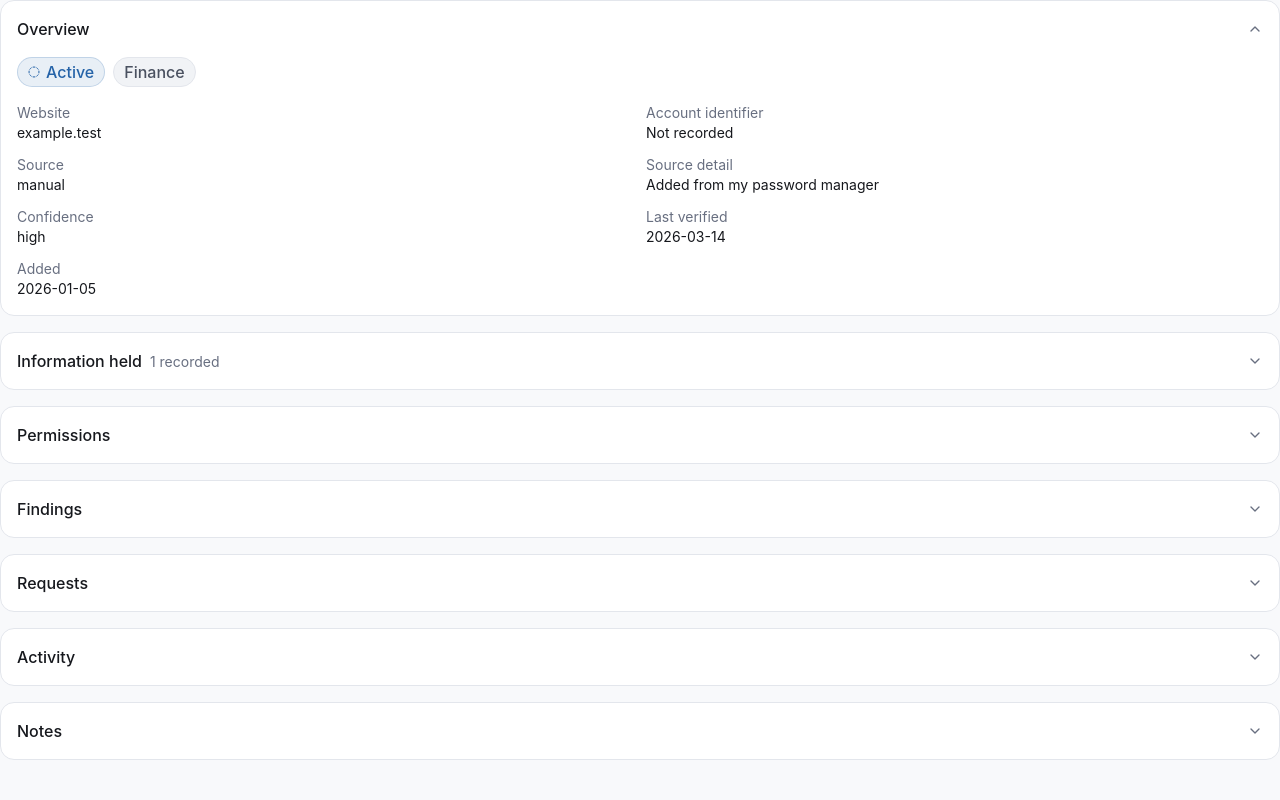
Scenario: source and last verified, only where the record has them › omits a data category's source when the row has none
This screenshot has width=1280, height=800.
Click the heading "Information held".
click(80, 361)  # box x1=17 y1=349 x2=142 y2=373
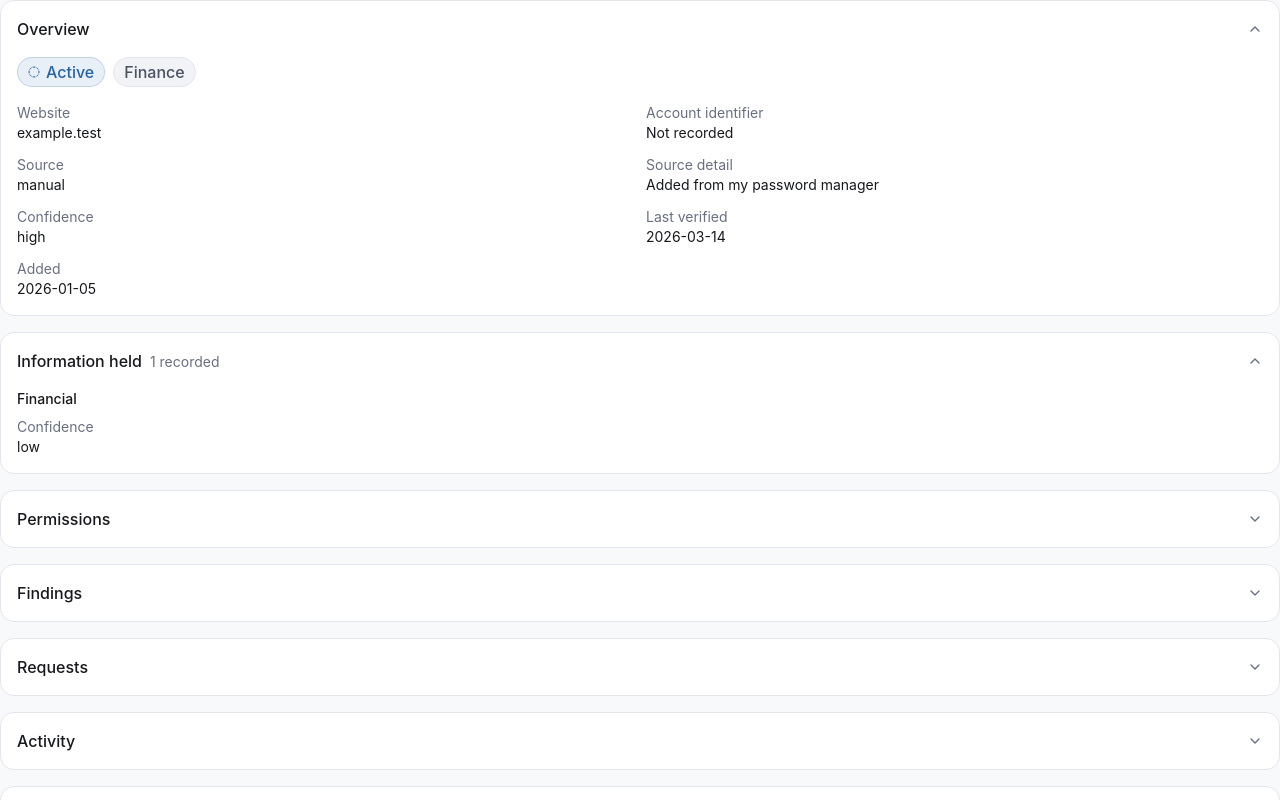
Expected: the text "Confidence" below "Financial" is shown, x1=17 y1=418 x2=94 y2=435
